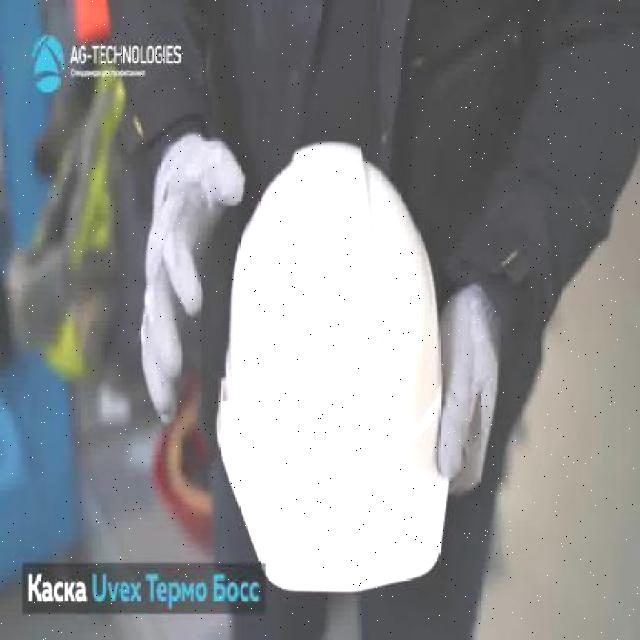Gloves: (140, 134, 249, 428), (434, 282, 503, 498)
Helmet: (214, 136, 448, 599)
